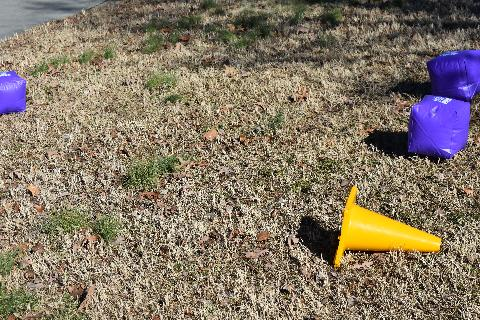cone: (332, 186, 442, 268)
cube: (407, 94, 471, 160), (426, 50, 480, 102), (0, 70, 28, 116)
